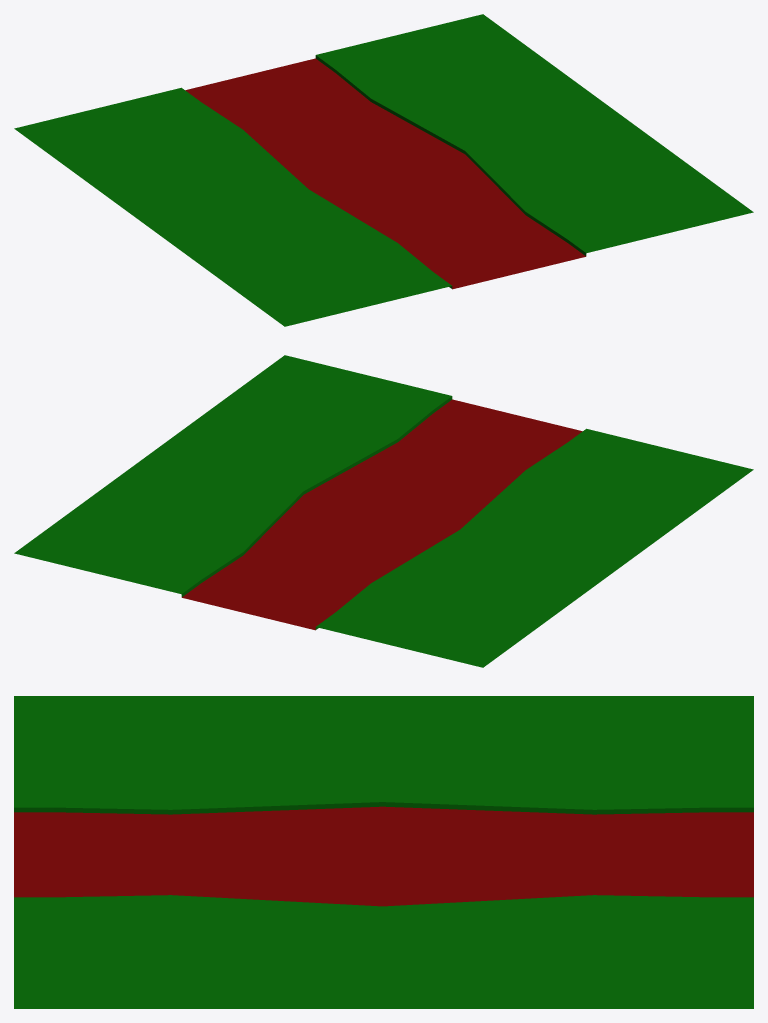
Rendered from StraightRoad.fbx.
3 views of the same model, one above another, from view 1: azimuth 30°, elevation 25°; view 2: azimuth 150°, elevation 25°; view 3: azimuth 270°, elevation 25° (orthographic). The views are drawn at different scales.
Parts seen in each view (by area): view 1: StraightRoad; view 2: StraightRoad; view 3: StraightRoad.
Part boxes in pixels (box(x1,y1,x2,y2)): StraightRoad: box(14, 14, 753, 326); StraightRoad: box(14, 355, 753, 667); StraightRoad: box(14, 696, 753, 1008).
Size of the model in its own units: 7 by 0.0487 by 7.
